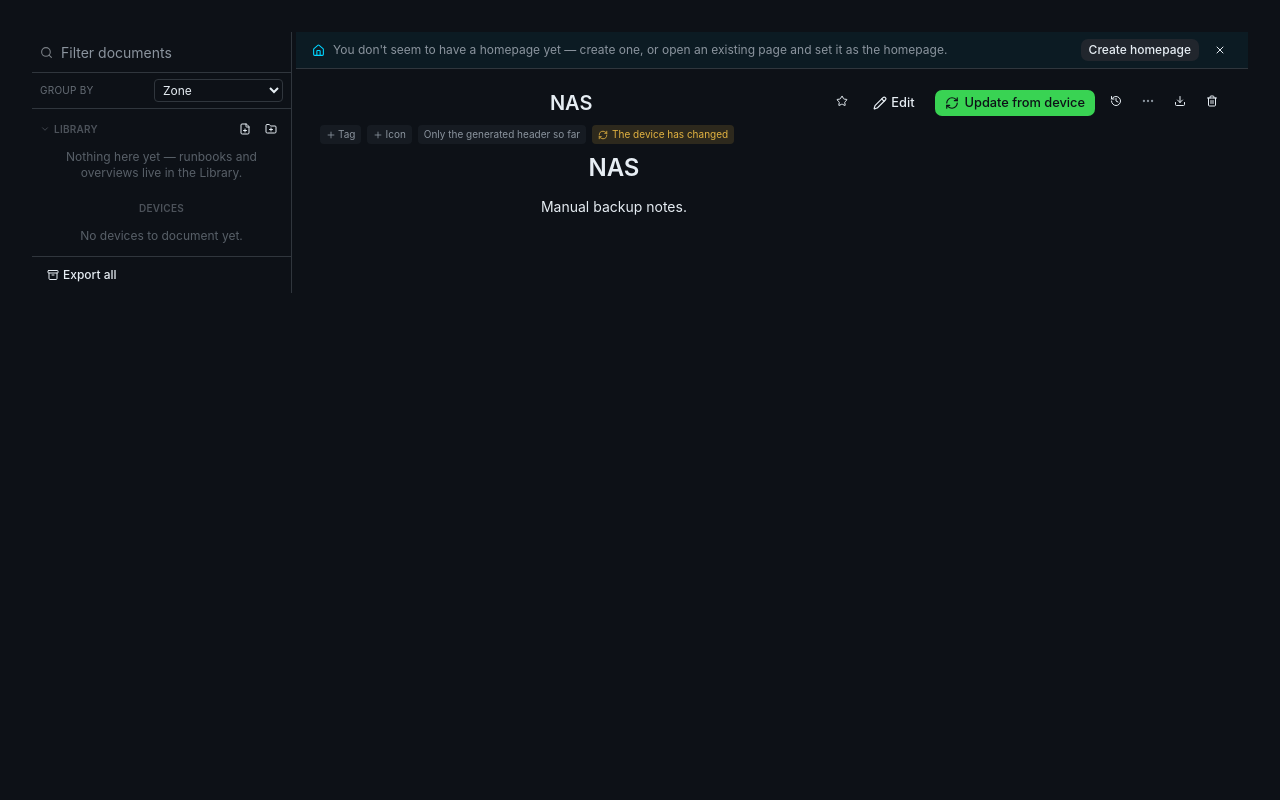
it: DocumentationView — update from device › only previews conflicts and cancelling writes nothing
The width and height of the screenshot is (1280, 800).
What coordinates should you click on to do the following:
click the button "Update from device"
I would click on:
 (1015, 103)
Its box is x1=934 y1=89 x2=1096 y2=117.
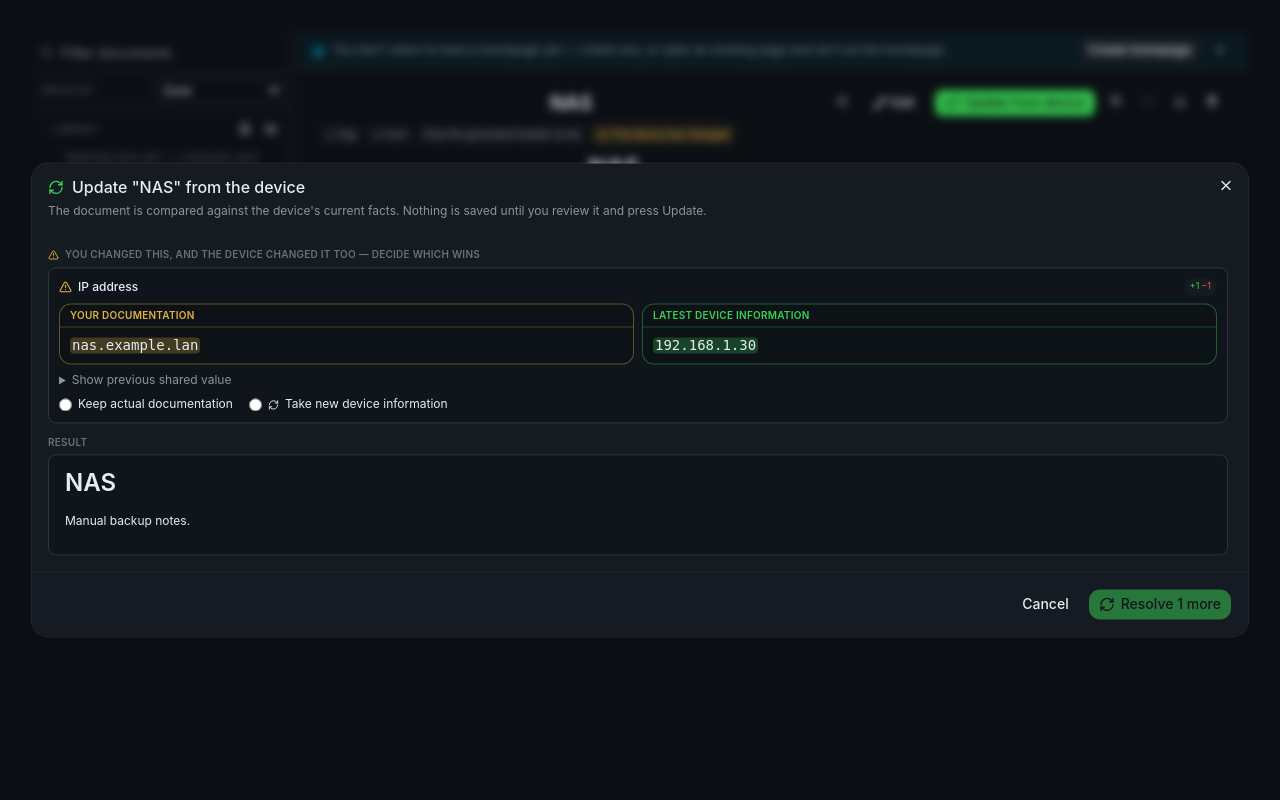
Expected: the dialog is shown, x1=32 y1=163 x2=1248 y2=637
Expected: the text "IP address" is shown, x1=78 y1=279 x2=138 y2=295
What coordinates should you click on to do the following:
click the button "Cancel"
I would click on:
 (1045, 605)
Its box is x1=1011 y1=589 x2=1080 y2=621.
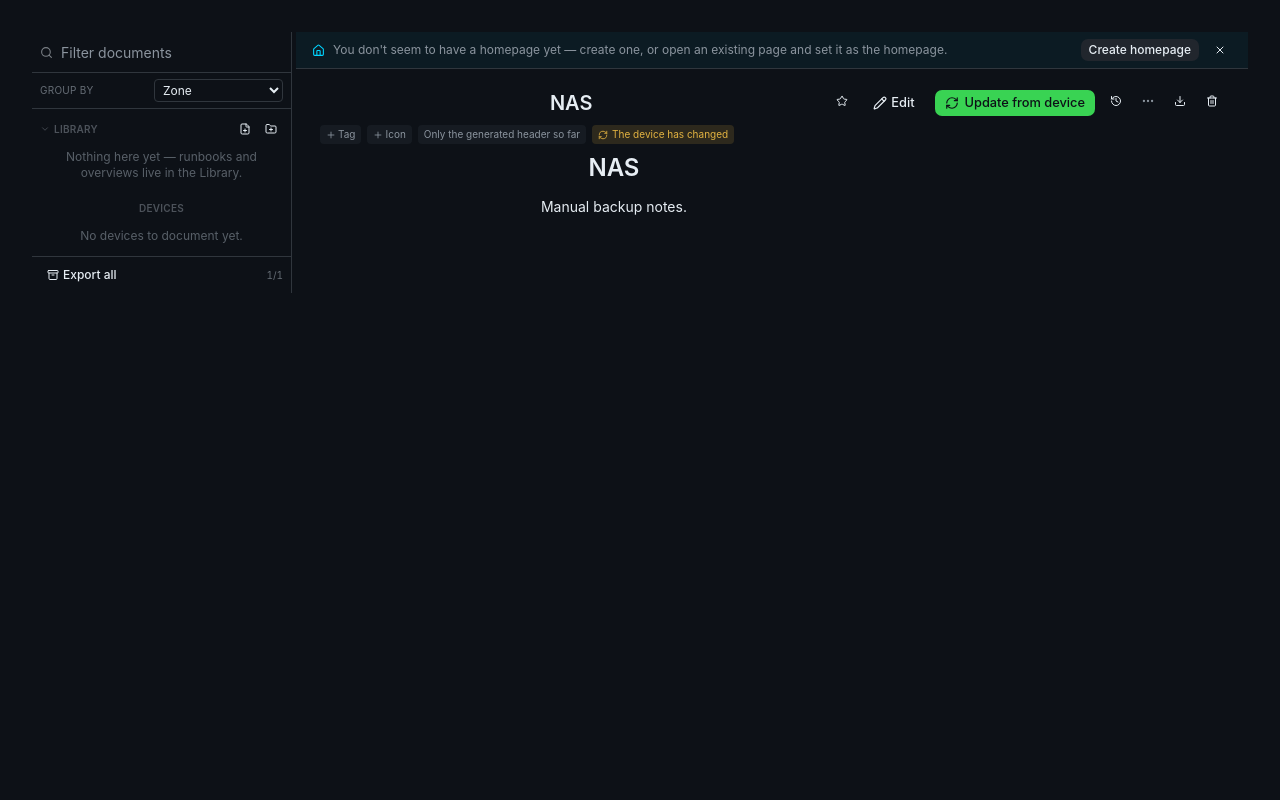
Expected: the dialog is gone
